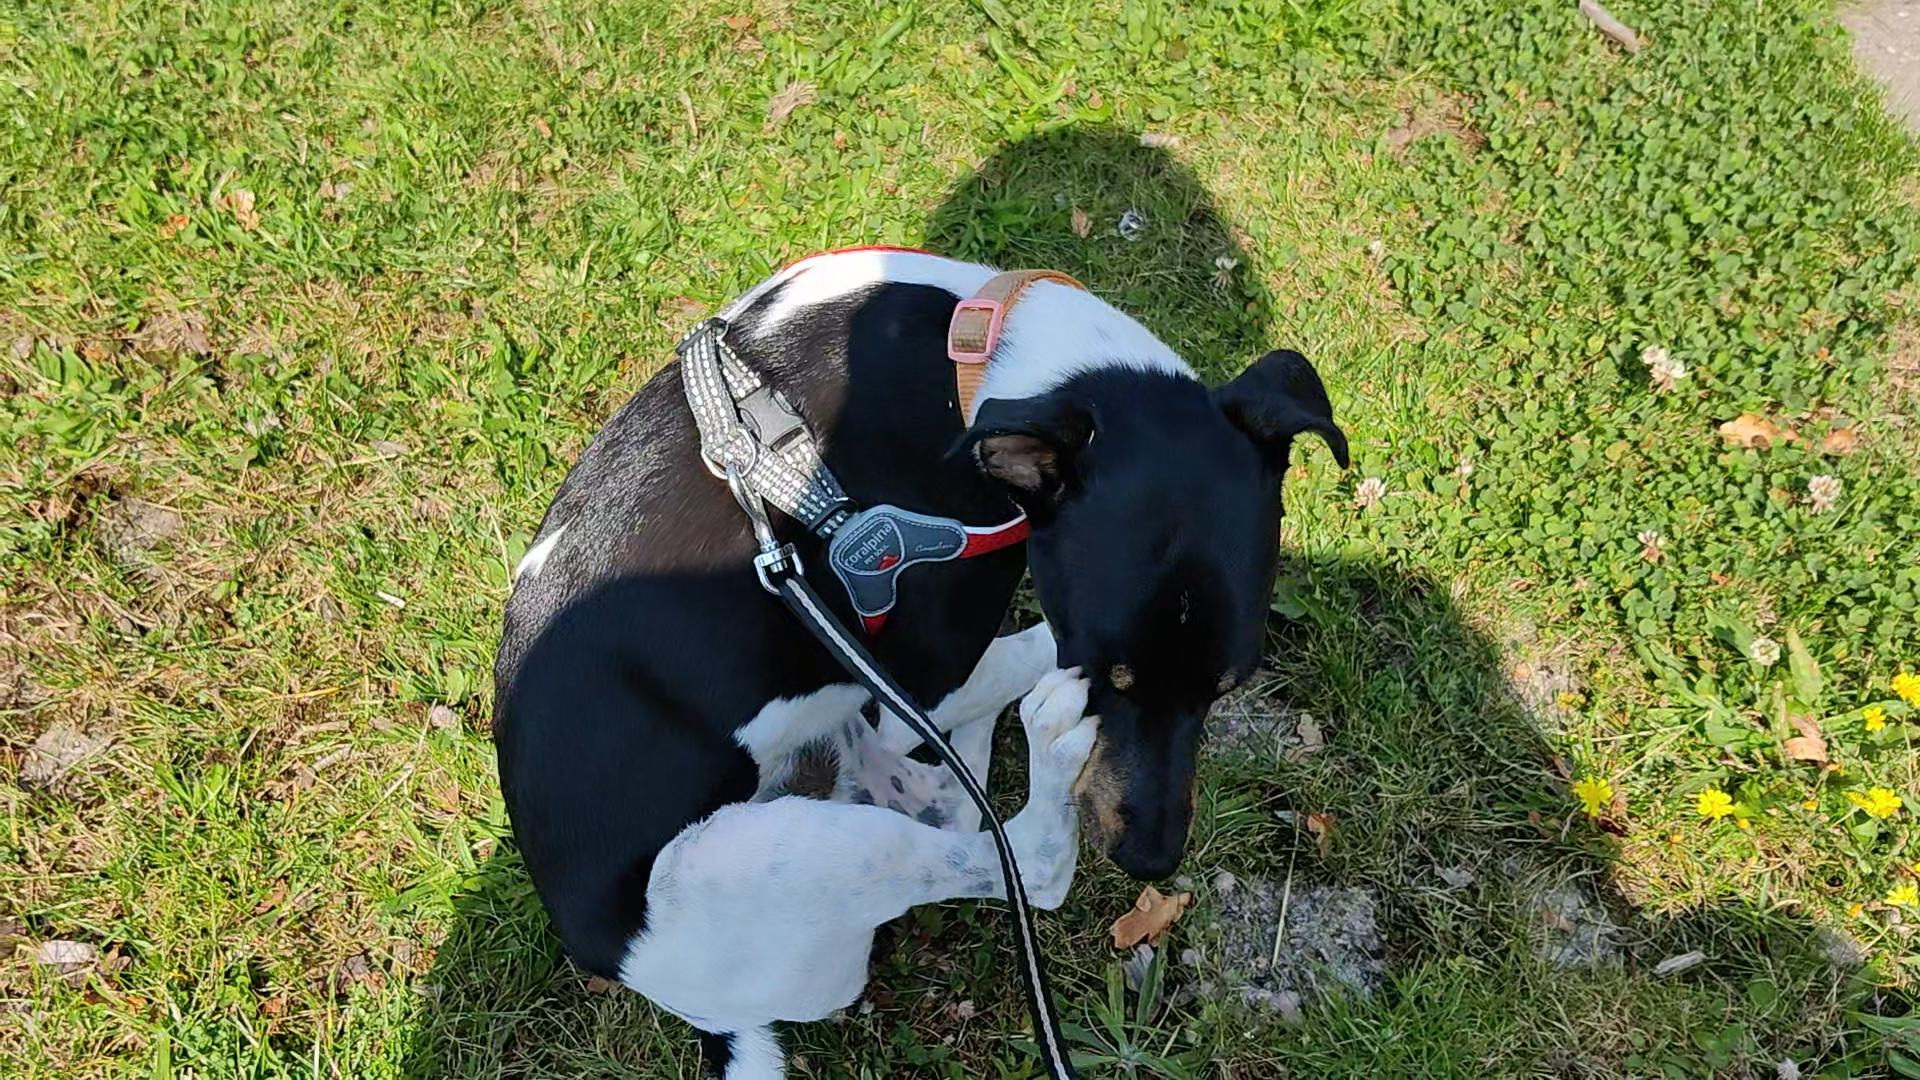Dog: (405, 187, 1402, 1079)
